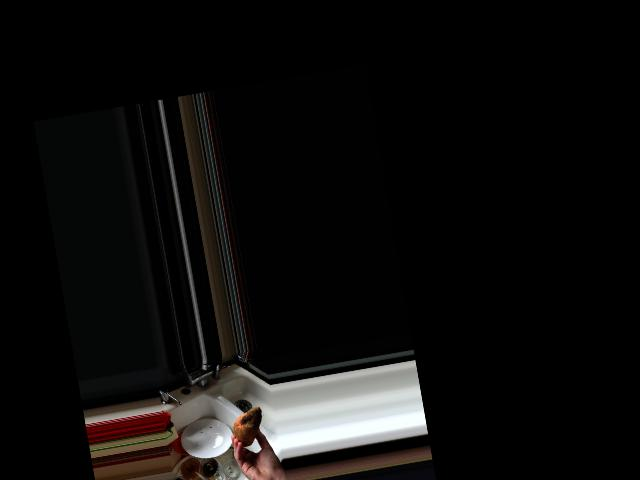sweet_potato: (228, 405, 269, 448)
